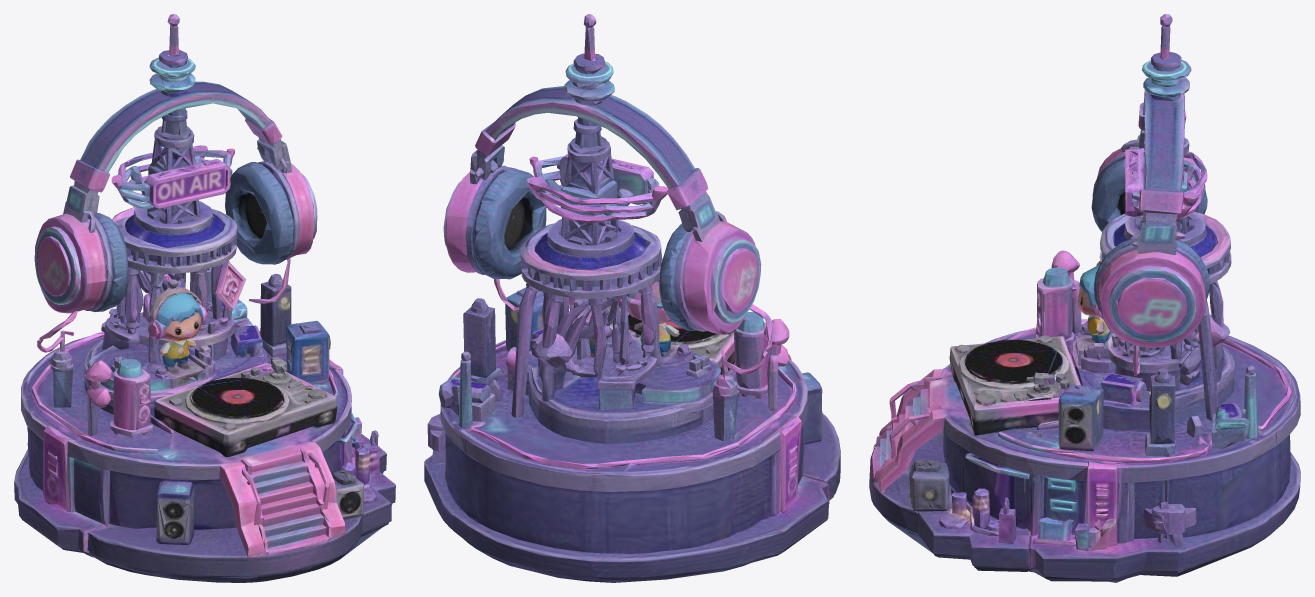
Rendered from island_listening.glb.
3 views of the same model, side by side, from view 1: azimuth 30°, elevation 25°; view 2: azimuth 150°, elevation 25°; view 3: azimuth 270°, elevation 25° (orthographic). The views are drawn at different scales.
Visible parts, largest first — view 1: Mesh_0; view 2: Mesh_0; view 3: Mesh_0.
Part boxes in pixels (bbox=[...]): Mesh_0: bbox=[14, 14, 395, 582]; Mesh_0: bbox=[424, 14, 840, 582]; Mesh_0: bbox=[869, 14, 1300, 582].
Bounding box in the file's own units: 1.39 × 1.9 × 1.51.
Materials: 1 (1 with a texture image).
